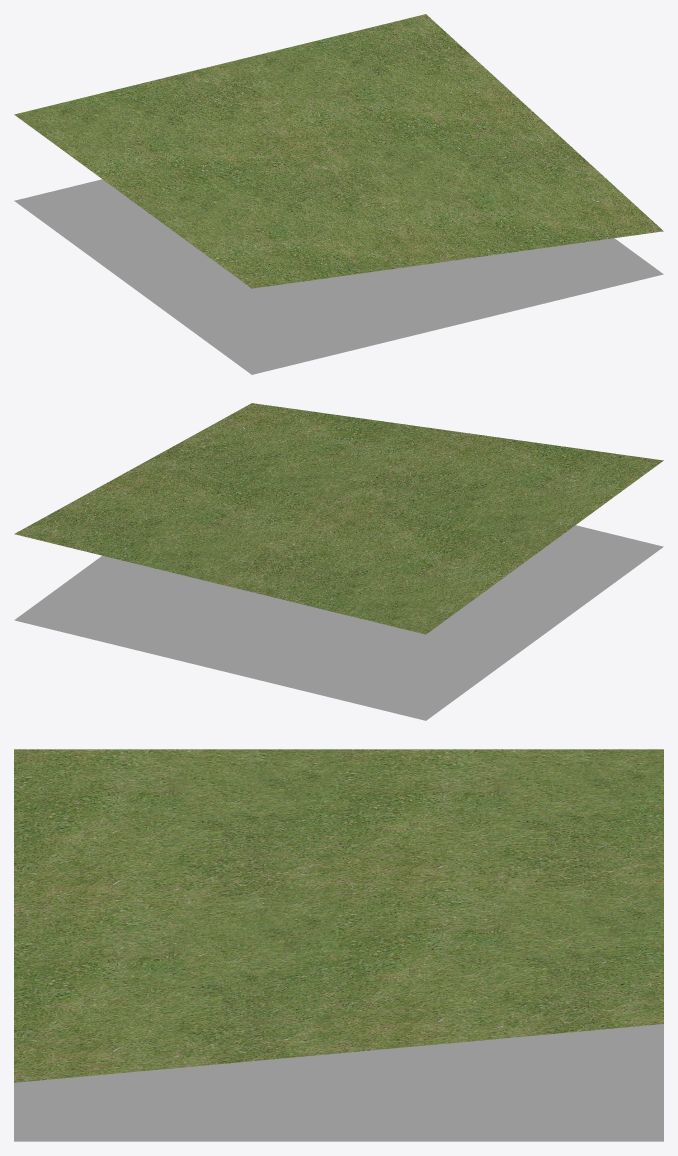
Rendered from Grass_Gradient_B.fbx.
The picture shows the model from 3 angles, top to bottom: view 1: azimuth 30°, elevation 25°; view 2: azimuth 150°, elevation 25°; view 3: azimuth 270°, elevation 25°; orthographic projection. The views are drawn at different scales.
Parts seen in each view (by area): view 1: Grass, Snap_Plane_Invisible; view 2: Grass, Snap_Plane_Invisible; view 3: Grass, Snap_Plane_Invisible.
Boxes of the visible parts, x1,y1,x2,y2 form: Grass: [14, 14, 663, 288]; Snap_Plane_Invisible: [14, 179, 663, 374]; Grass: [14, 403, 663, 634]; Snap_Plane_Invisible: [14, 525, 663, 720]; Grass: [14, 749, 663, 1082]; Snap_Plane_Invisible: [14, 1024, 663, 1141].
Bounding box in the file's own units: 20 × 4 × 20.
